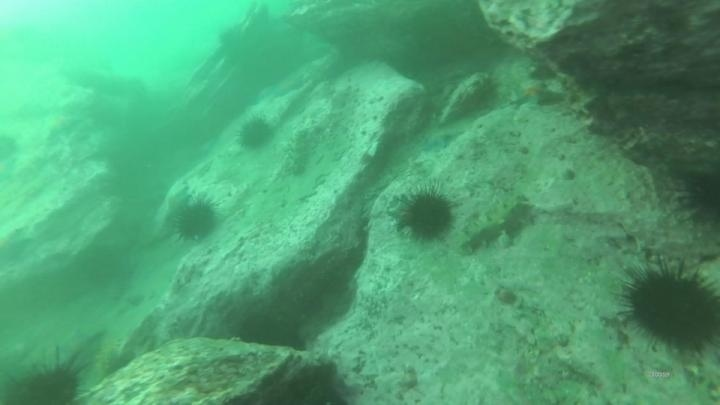echinus: (620, 260, 719, 357), (6, 355, 86, 405), (395, 186, 458, 244), (676, 165, 720, 229), (172, 196, 220, 244), (236, 115, 276, 153)
holothurian: (457, 194, 535, 255), (284, 126, 318, 178)
starfish: (54, 326, 107, 370), (39, 106, 82, 143), (510, 78, 554, 109), (416, 126, 460, 155)
